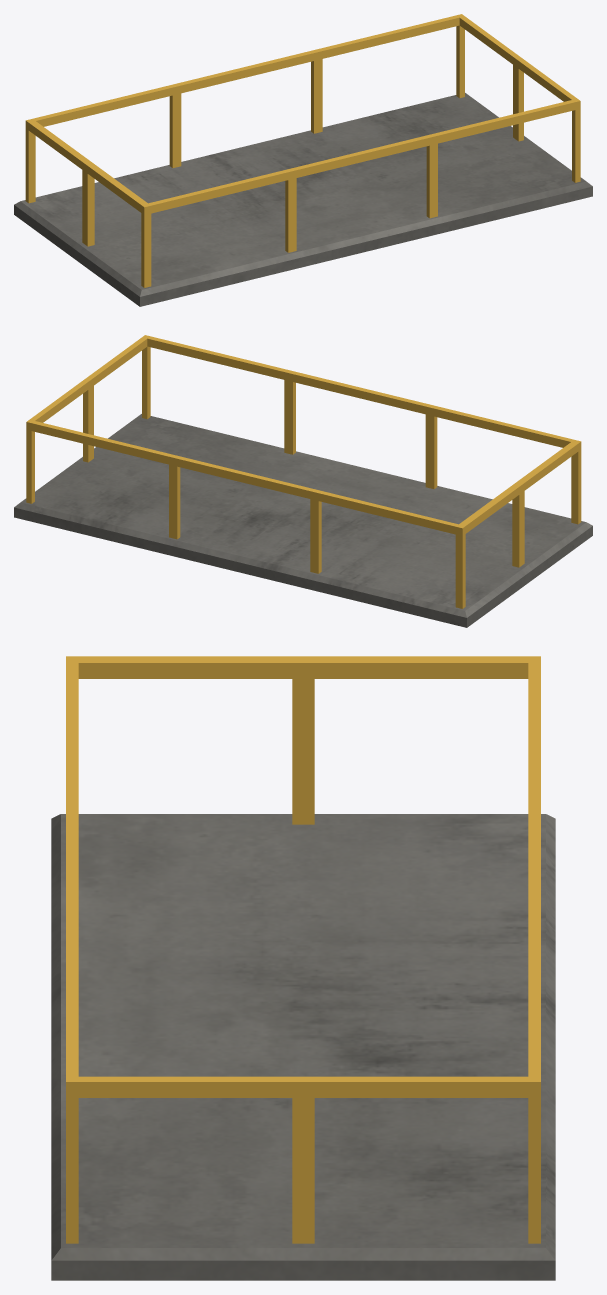
File: platform_lo.fbx
3 views of the same model, one above another, from view 1: azimuth 30°, elevation 25°; view 2: azimuth 150°, elevation 25°; view 3: azimuth 270°, elevation 25° (orthographic). The views are drawn at different scales.
Parts seen in each view (by area): view 1: platform_lo; view 2: platform_lo; view 3: platform_lo.
Boxes of the visible parts, x1,y1,x2,y2 form: platform_lo: [14, 14, 592, 306]; platform_lo: [14, 335, 592, 627]; platform_lo: [51, 656, 555, 1280].
Bounding box in the file's own units: 6.3 × 1.26 × 3.04.
